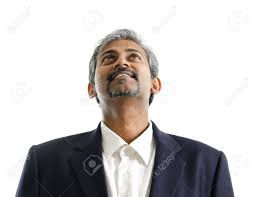Indian_Male: (81, 30, 159, 120)
